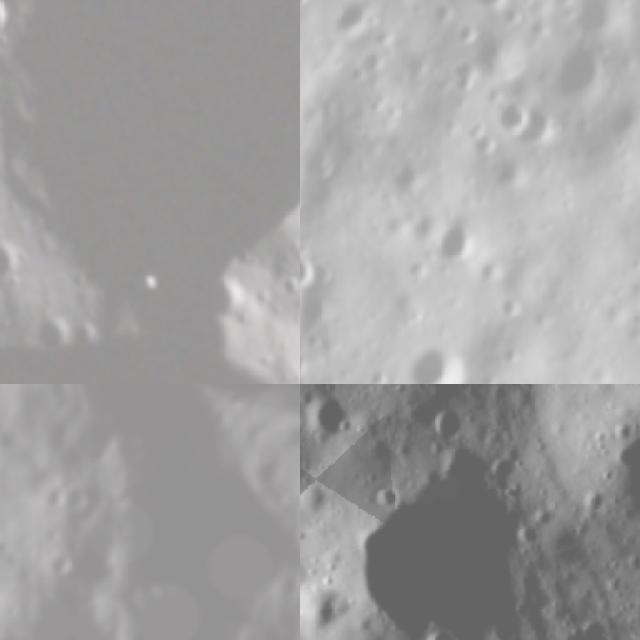crater: (0, 0, 300, 355), (312, 414, 581, 640), (300, 560, 360, 640), (300, 384, 368, 450), (547, 41, 607, 99), (426, 212, 485, 268), (422, 390, 476, 450), (398, 338, 467, 384), (360, 470, 414, 523), (556, 0, 617, 40), (597, 88, 640, 144), (50, 473, 99, 522), (28, 314, 72, 362), (320, 0, 381, 33), (484, 98, 530, 139), (300, 428, 324, 504), (520, 104, 562, 146), (300, 291, 335, 331), (437, 18, 474, 52), (414, 619, 473, 640), (494, 292, 528, 328), (397, 44, 431, 78), (0, 246, 27, 287), (440, 61, 478, 90), (39, 546, 72, 579), (354, 49, 391, 74), (300, 515, 315, 572), (300, 250, 317, 291), (421, 0, 450, 24), (0, 0, 15, 46), (467, 0, 507, 14)
